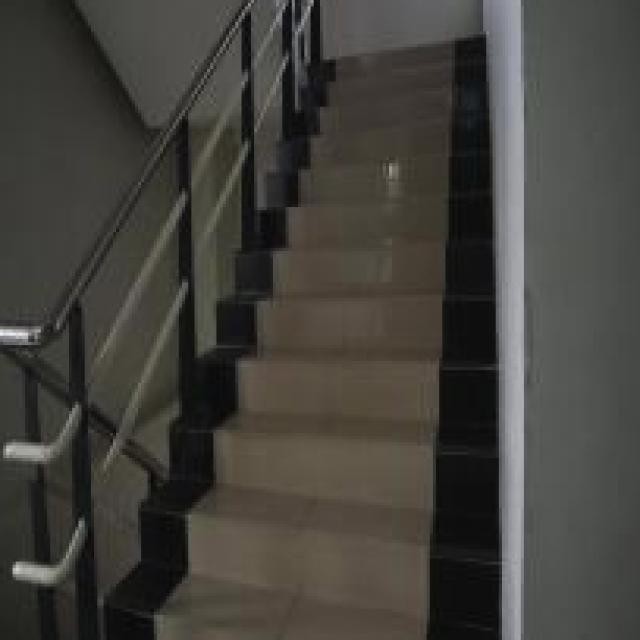upstair: (309, 45, 497, 640)
